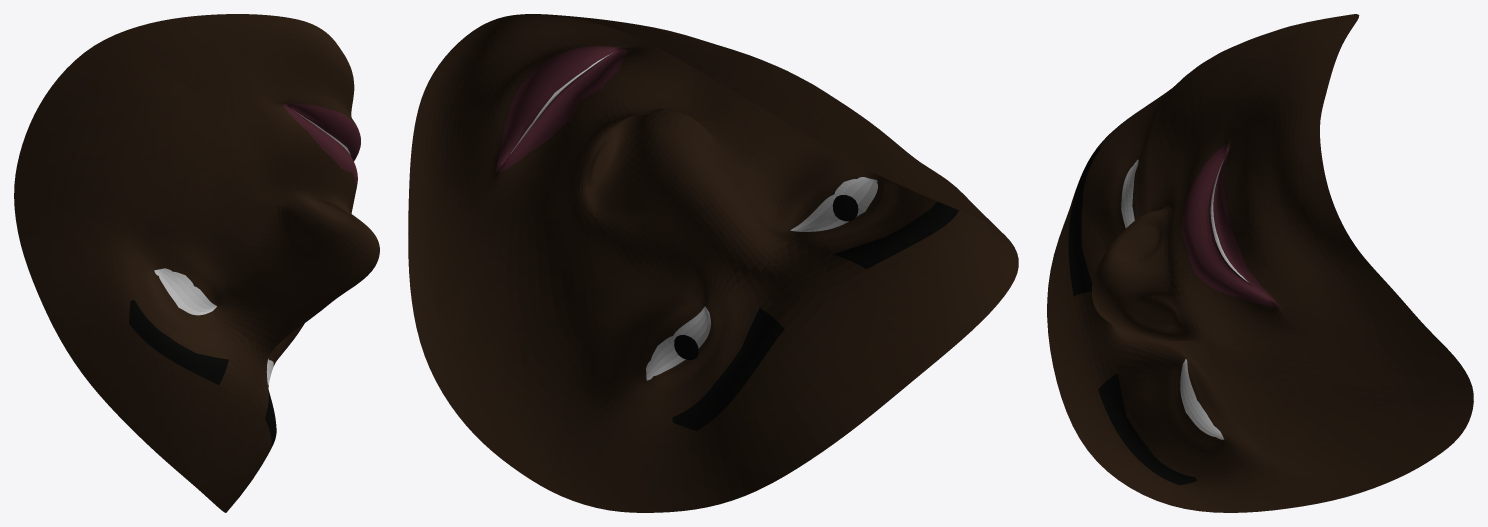
The model's file is IMG_3705.obj.
3 renders of one model, left to right at view 1: azimuth 30°, elevation 25°; view 2: azimuth 150°, elevation 25°; view 3: azimuth 270°, elevation 25°, orthographic. The views are drawn at different scales.
Parts seen in each view (by area): view 1: face_mesh_subdivided; view 2: face_mesh_subdivided; view 3: face_mesh_subdivided.
Part boxes in pixels (left/top/right/bottom): face_mesh_subdivided: left=14, top=14, right=379, bottom=512; face_mesh_subdivided: left=408, top=14, right=1018, bottom=512; face_mesh_subdivided: left=1047, top=14, right=1473, bottom=512.
Size of the model in its own units: 0.7101 by 0.7449 by 0.5981.
